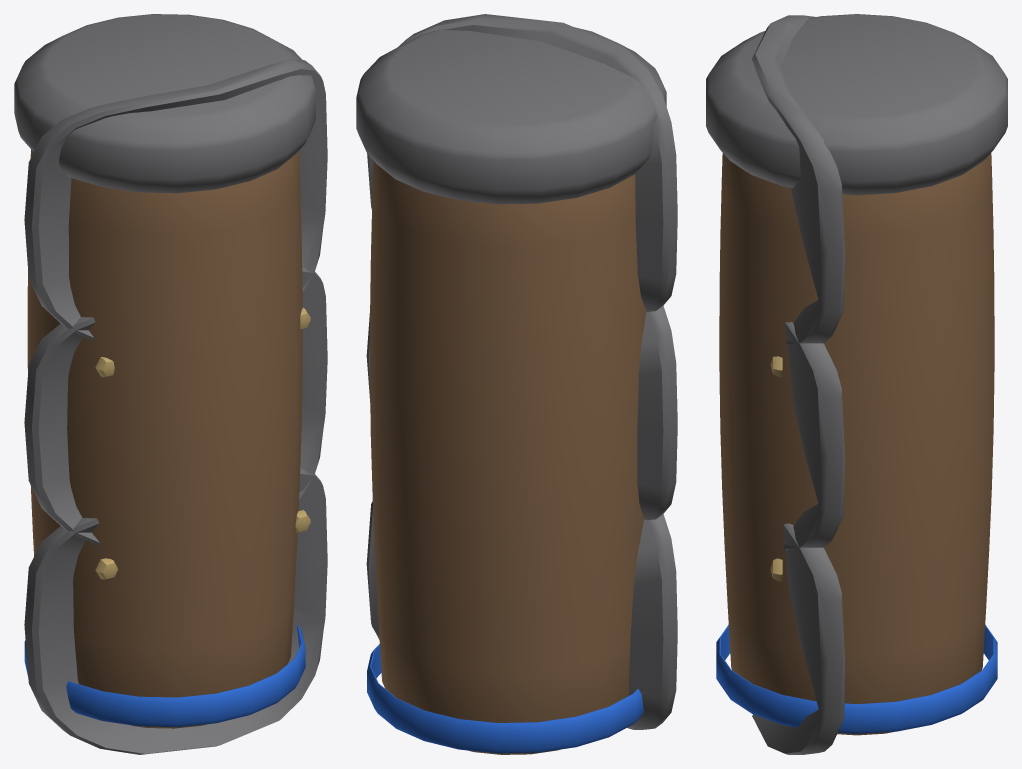
File: Kit_Limb_Plate_L.glb
3 renders of one model, left to right at view 1: azimuth 30°, elevation 25°; view 2: azimuth 150°, elevation 25°; view 3: azimuth 270°, elevation 25°, orthographic. The views are drawn at different scales.
Visible parts, largest first — view 1: Kit_Limb_Plate_L; view 2: Kit_Limb_Plate_L; view 3: Kit_Limb_Plate_L.
Part boxes in pixels (<box>): Kit_Limb_Plate_L: <box>14,14,327,754</box>; Kit_Limb_Plate_L: <box>356,14,677,754</box>; Kit_Limb_Plate_L: <box>706,14,1007,754</box>.
Bounding box in the file's own units: 0.1702 × 0.3616 × 0.1494.
